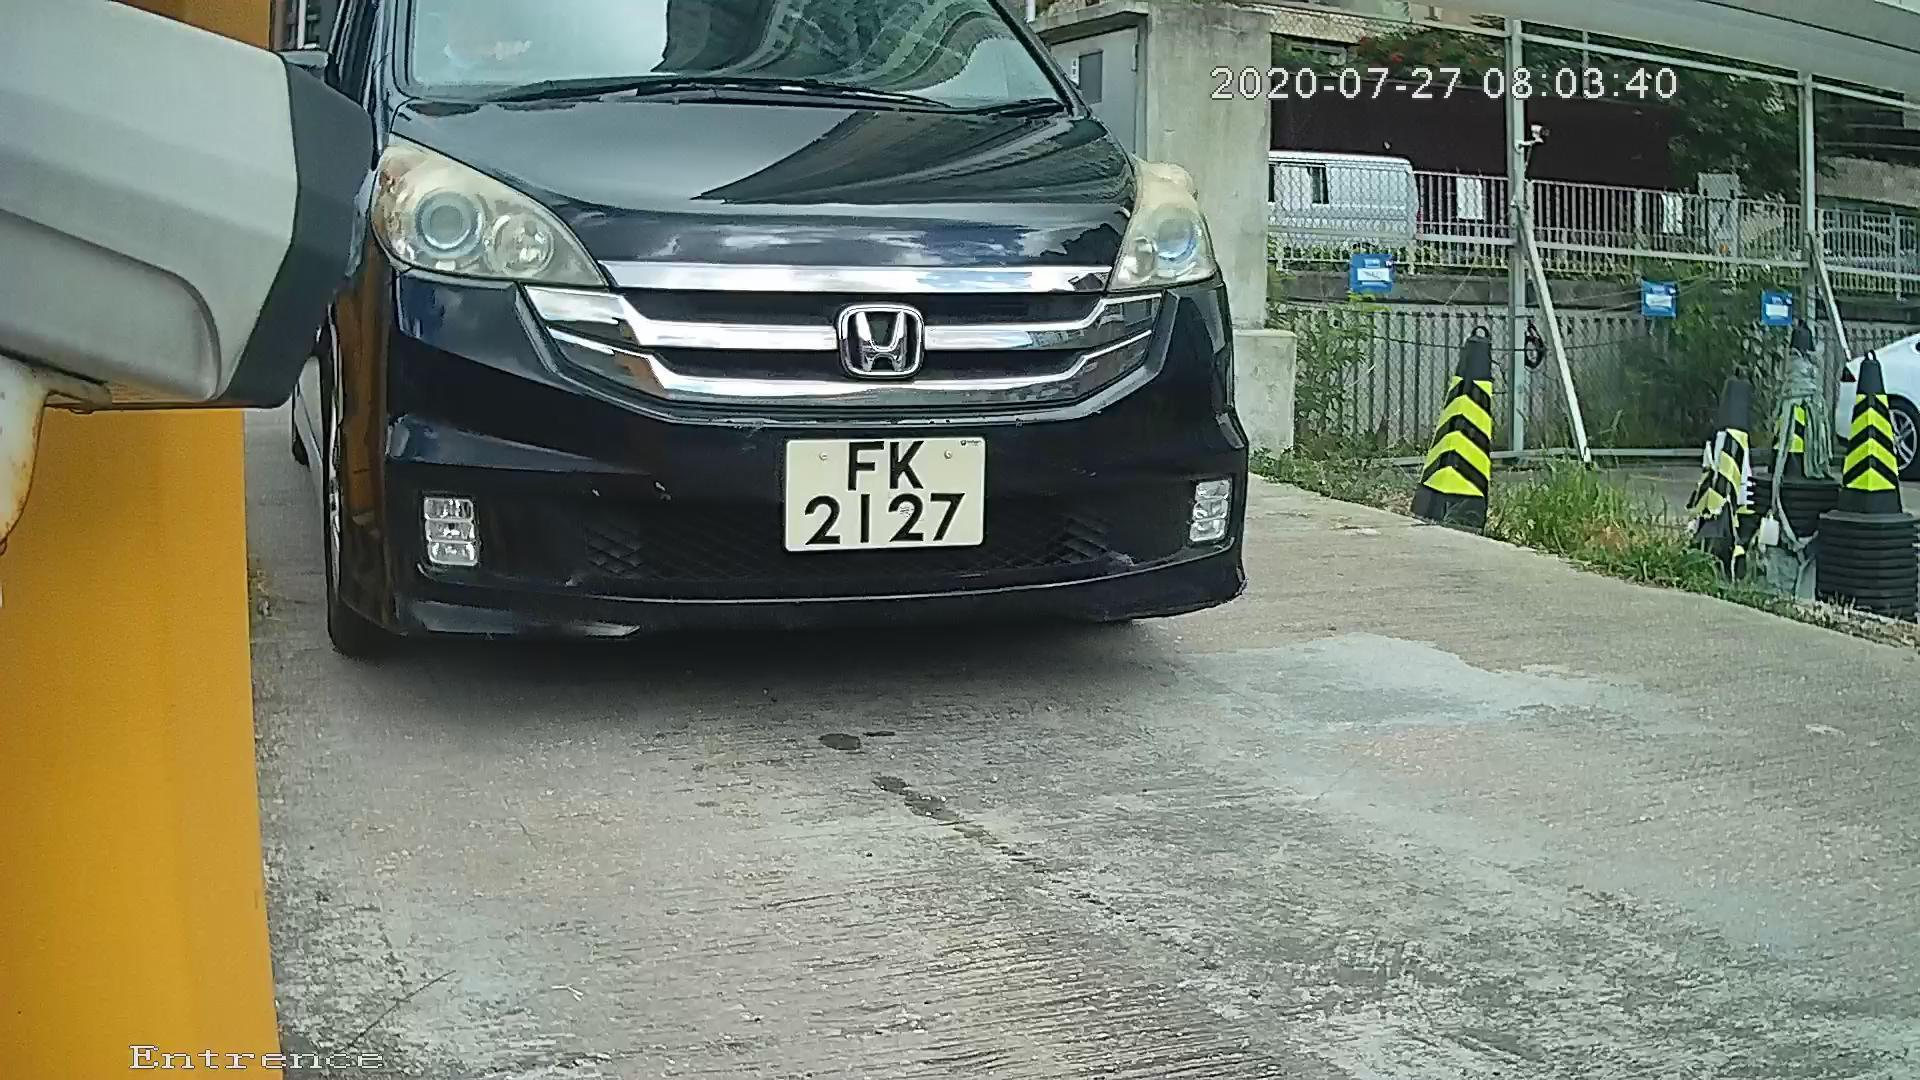License Plate: (755, 425, 995, 565)
